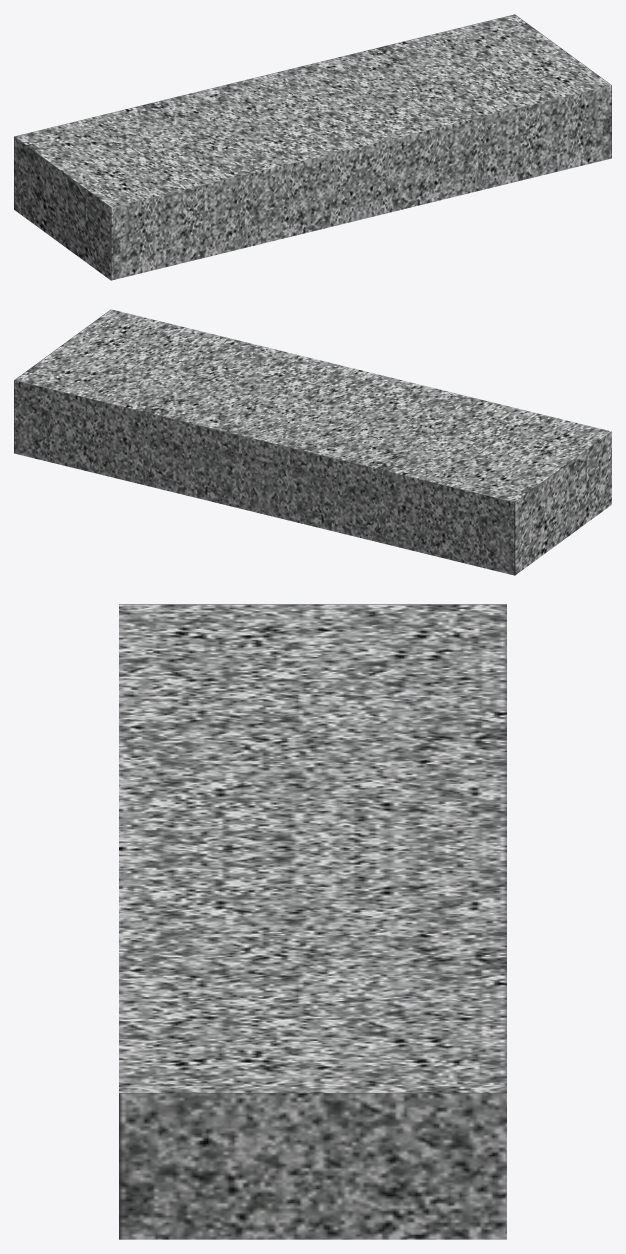
The model's file is SM_Geumsan_Mi_Step.fbx.
3 views of the same model, one above another, from view 1: azimuth 30°, elevation 25°; view 2: azimuth 150°, elevation 25°; view 3: azimuth 270°, elevation 25° (orthographic). The views are drawn at different scales.
Parts seen in each view (by area): view 1: SM_Geumsan_Mi_Step; view 2: SM_Geumsan_Mi_Step; view 3: SM_Geumsan_Mi_Step.
Part boxes in pixels (x1,y1,x2,y2): SM_Geumsan_Mi_Step: (14, 14, 611, 280); SM_Geumsan_Mi_Step: (14, 309, 611, 575); SM_Geumsan_Mi_Step: (119, 604, 506, 1239).
Size of the model in its own units: 151 by 20.99 by 50.51.
